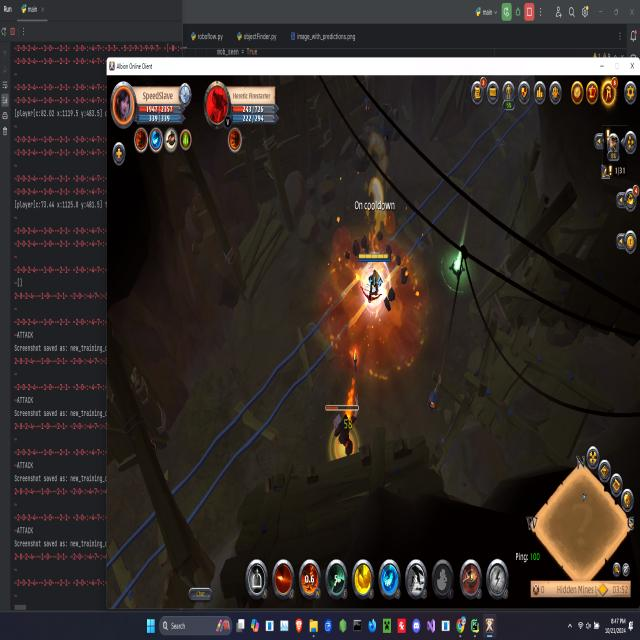ore: (320, 394, 361, 457)
red: (354, 248, 393, 312)
